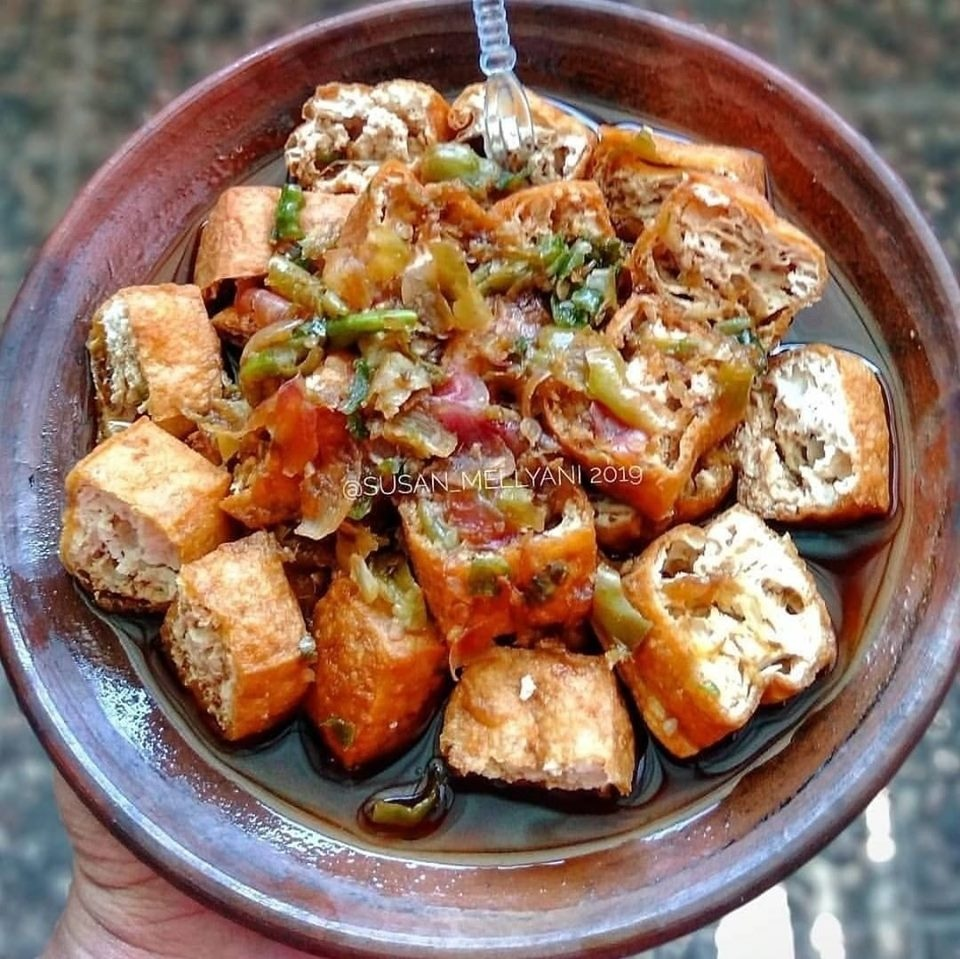tahu_gejrot: (60, 76, 893, 846)
